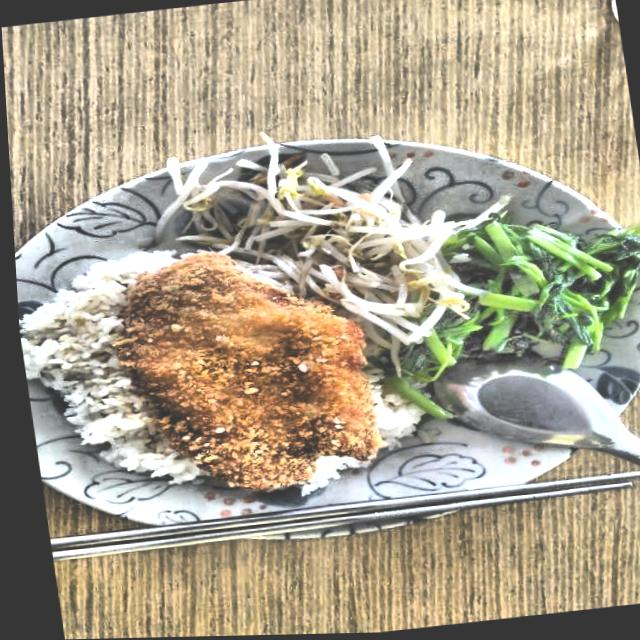Food: (125, 278, 369, 460), (456, 210, 633, 375), (242, 188, 441, 295), (31, 276, 137, 417)
